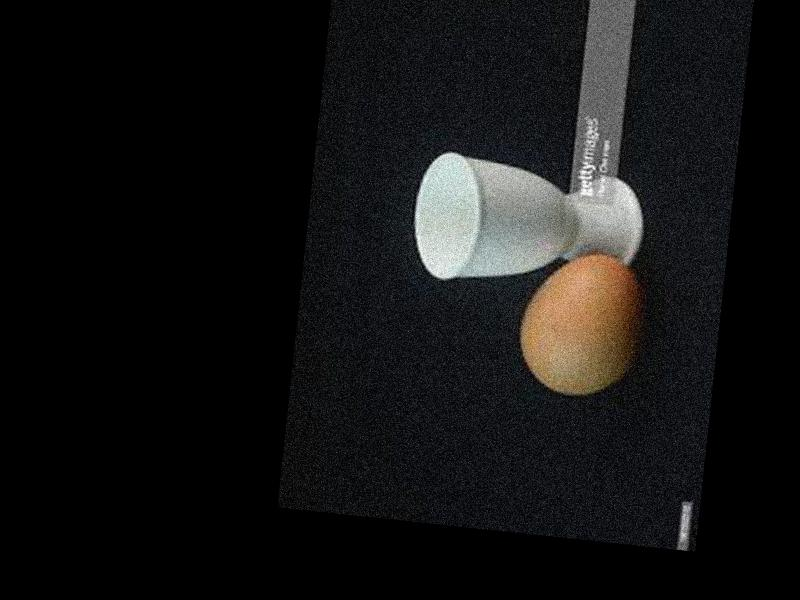Eggs: (514, 245, 643, 399)
